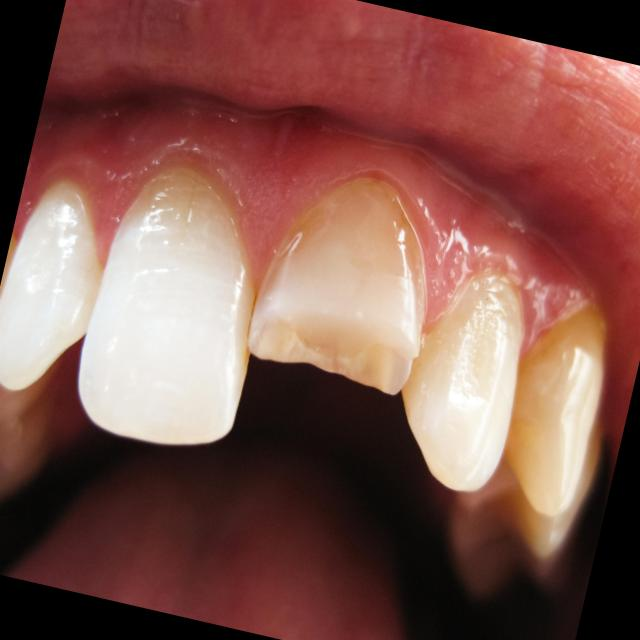Crack: (247, 311, 418, 396)
Tooth: (78, 177, 255, 445), (247, 178, 424, 396), (457, 308, 602, 514), (400, 275, 522, 491), (0, 186, 102, 391)
